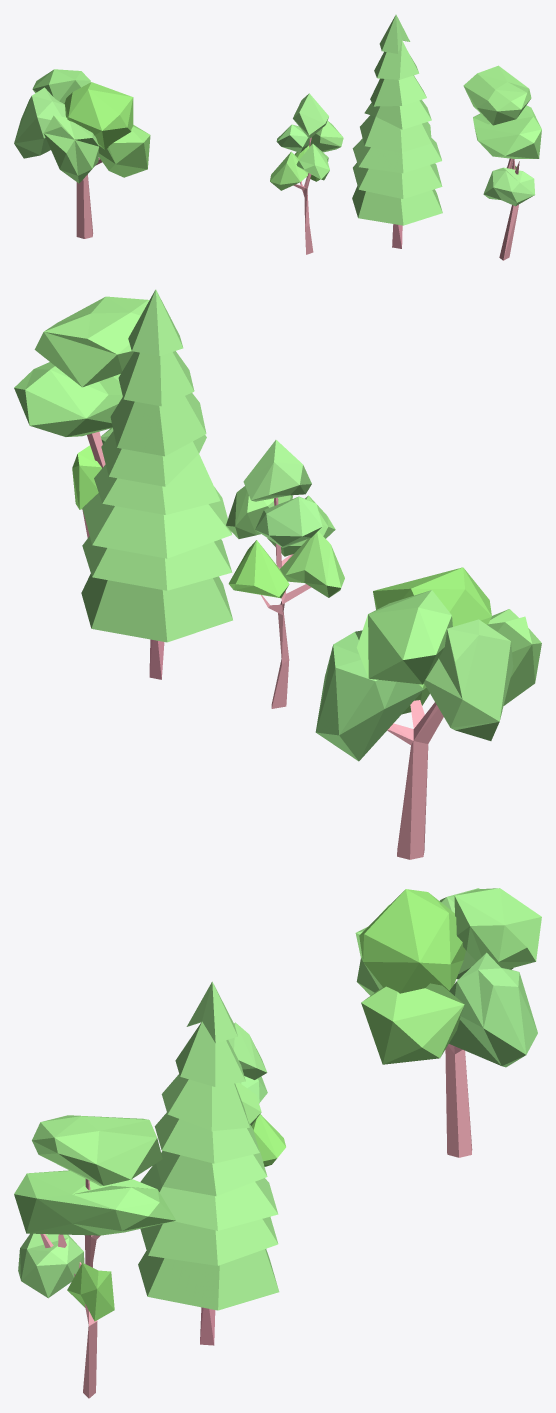
File: ForestSideRails3.fbx
The picture shows the model from 3 angles, top to bottom: view 1: azimuth 30°, elevation 25°; view 2: azimuth 150°, elevation 25°; view 3: azimuth 270°, elevation 25°; orthographic projection. The views are drawn at different scales.
Visible parts, largest first — view 1: Forest.018; view 2: Forest.018; view 3: Forest.018.
Boxes of the visible parts, <box> form: Forest.018: <box>14,14,541,260</box>; Forest.018: <box>14,289,541,859</box>; Forest.018: <box>14,888,541,1398</box>.
Size of the model in its own units: 641 by 357 by 472.
